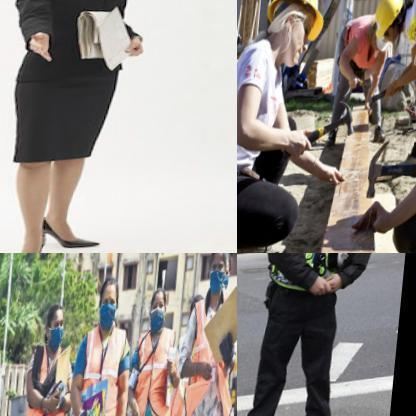Boots: (262, 0, 330, 41)
Ear-protection: (0, 0, 159, 249)
Glass: (72, 323, 131, 415), (135, 323, 180, 410)
